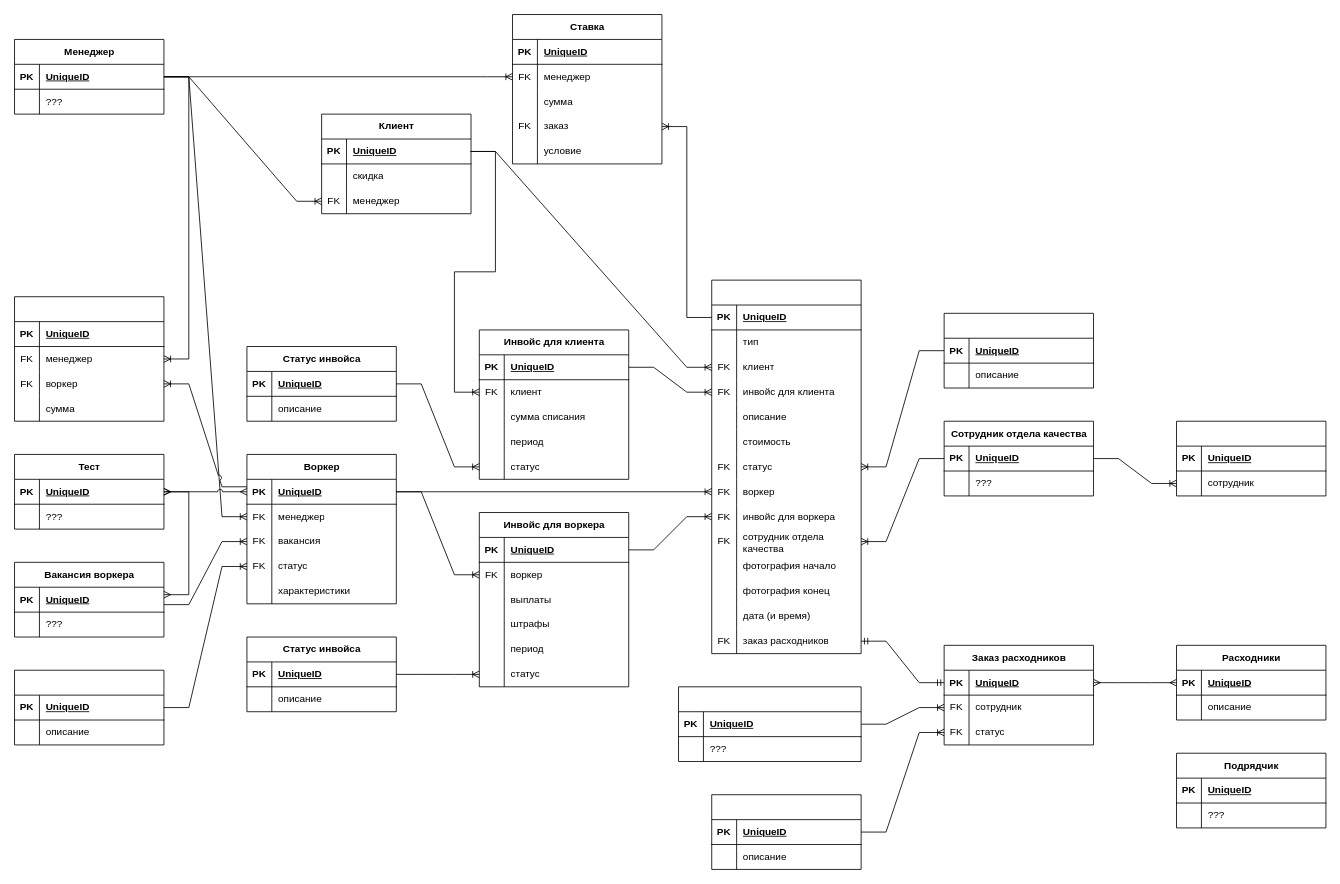
This 1340x884 diagram has some shape labels left out. The box of each missing label's shape, as (x1, y1, x2, y2) in pixels:
Зачисление: (14, 296, 164, 421)
Сотрудник отдела расходников: (678, 686, 861, 762)
Статус воркера: (14, 669, 164, 745)
Статус заказа: (711, 794, 861, 869)
Статус услуги: (943, 312, 1094, 388)
Услуга / задание: (711, 279, 861, 654)
Форма оценки качества: (1176, 420, 1326, 496)
